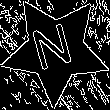N_S: (30, 20, 81, 80)
